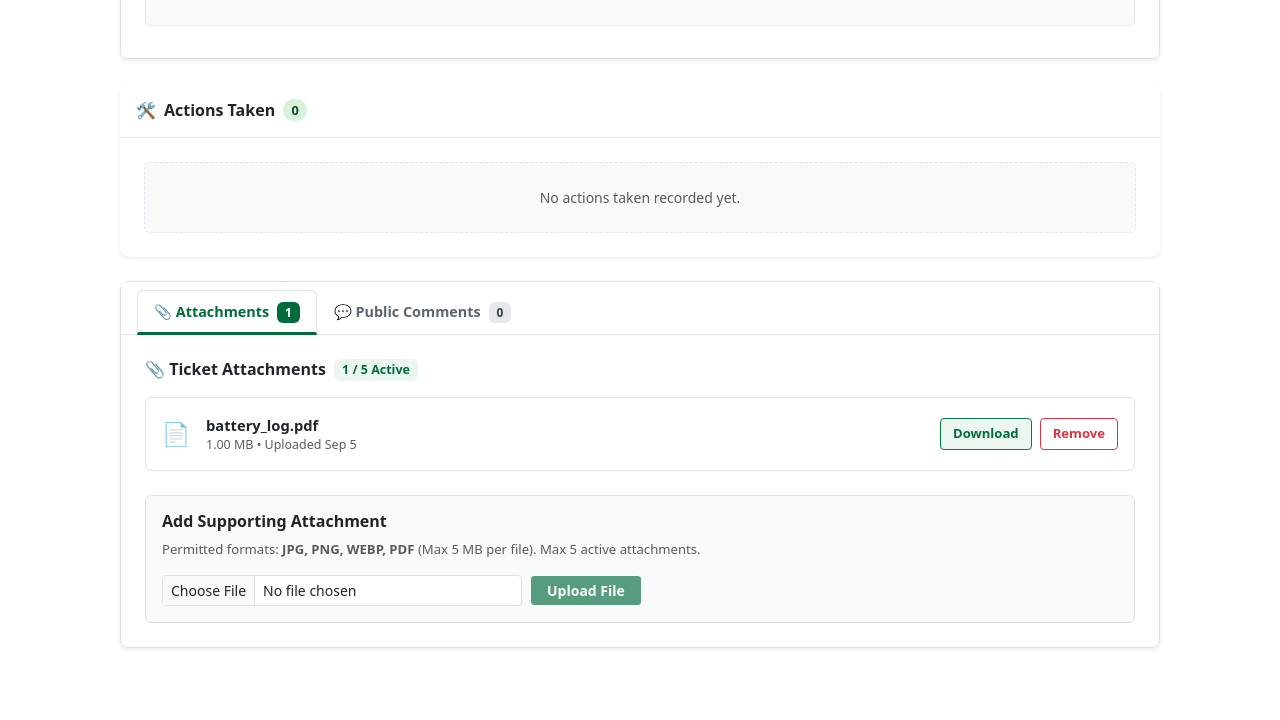
Test: UI Component — TicketDetail.tsx › opens removal modal when clicking Remove button
The image size is (1280, 720).
(page scrolled)
Expected: the text "battery_log.pdf" is shown, 206,415 -> 318,435
Click the button "Remove". click: (1079, 434)
box: 1040,418 -> 1118,450
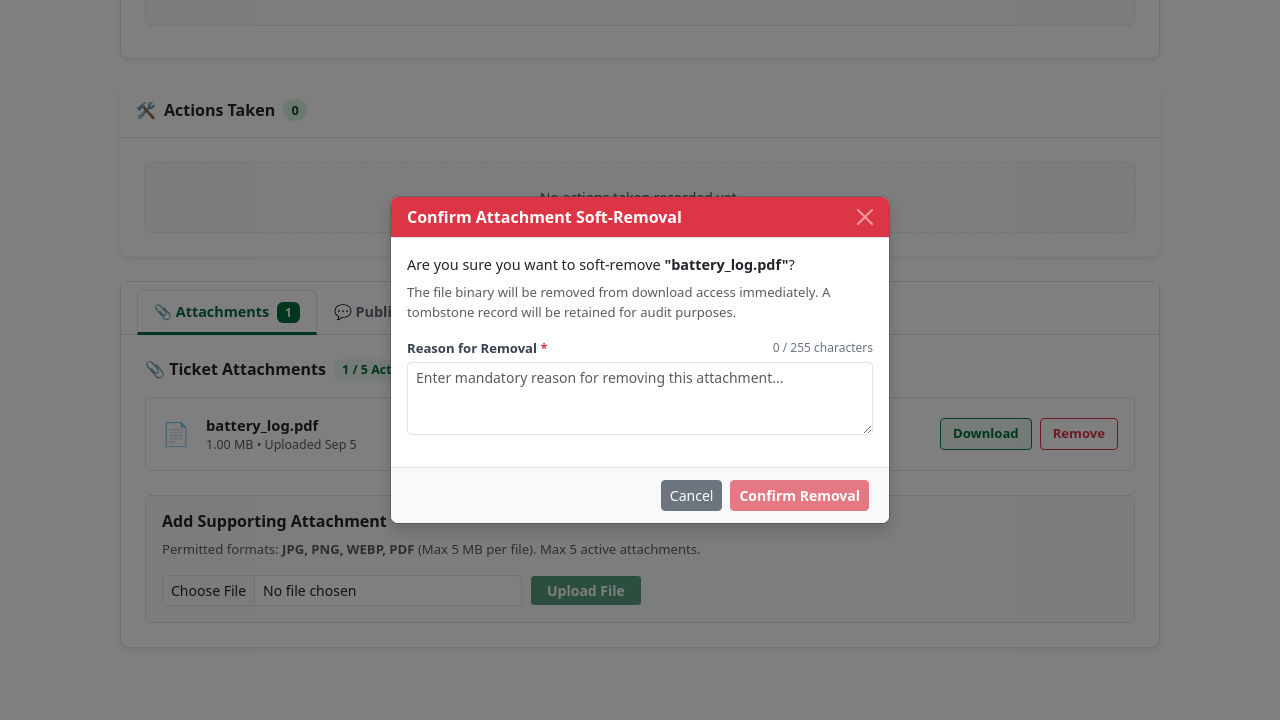
Expected: the heading "Confirm Attachment Soft-Removal" is shown, 407,205 -> 682,229
Expected: the text box with placeholder "Enter mandatory reason for removing this attachment..." is shown, 407,362 -> 873,435
